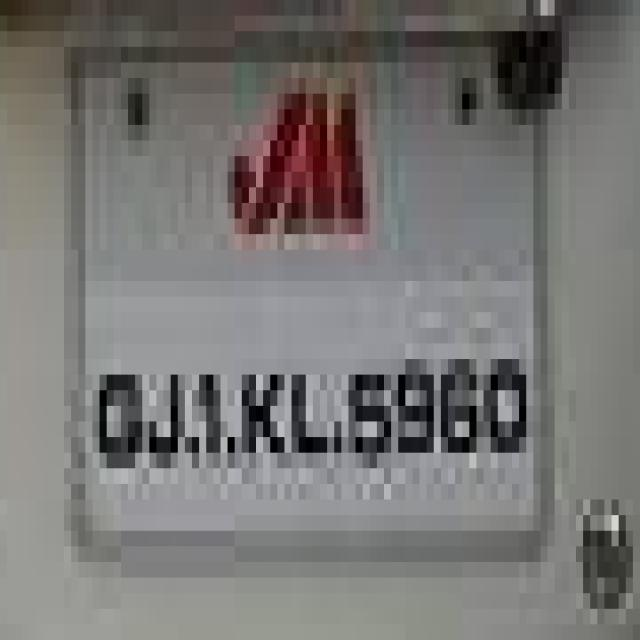license_plate: (50, 265, 562, 531)
